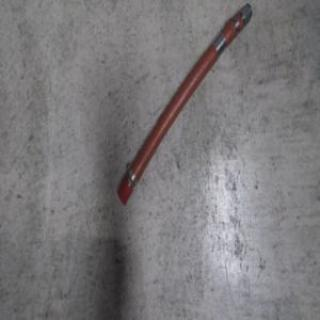Hosetrack_idkeyframe: (114, 3, 253, 207)
